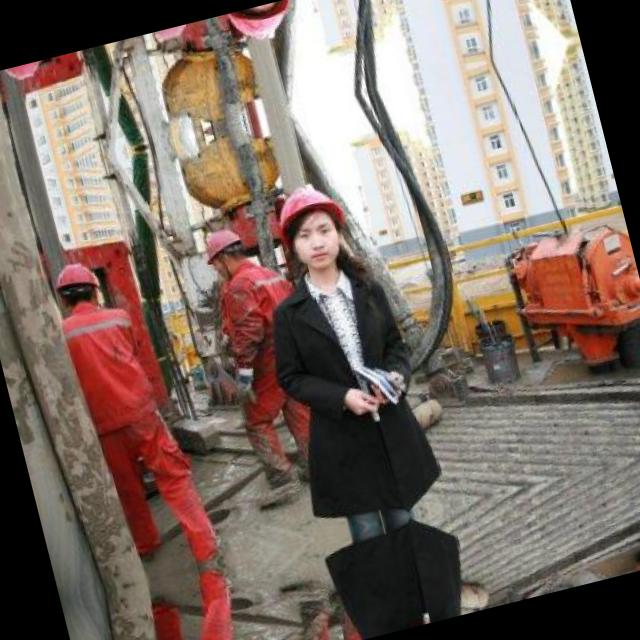helmet: (264, 170, 361, 280), (220, 0, 306, 54), (48, 256, 104, 318), (196, 221, 251, 280), (0, 59, 47, 85), (146, 22, 193, 48)
